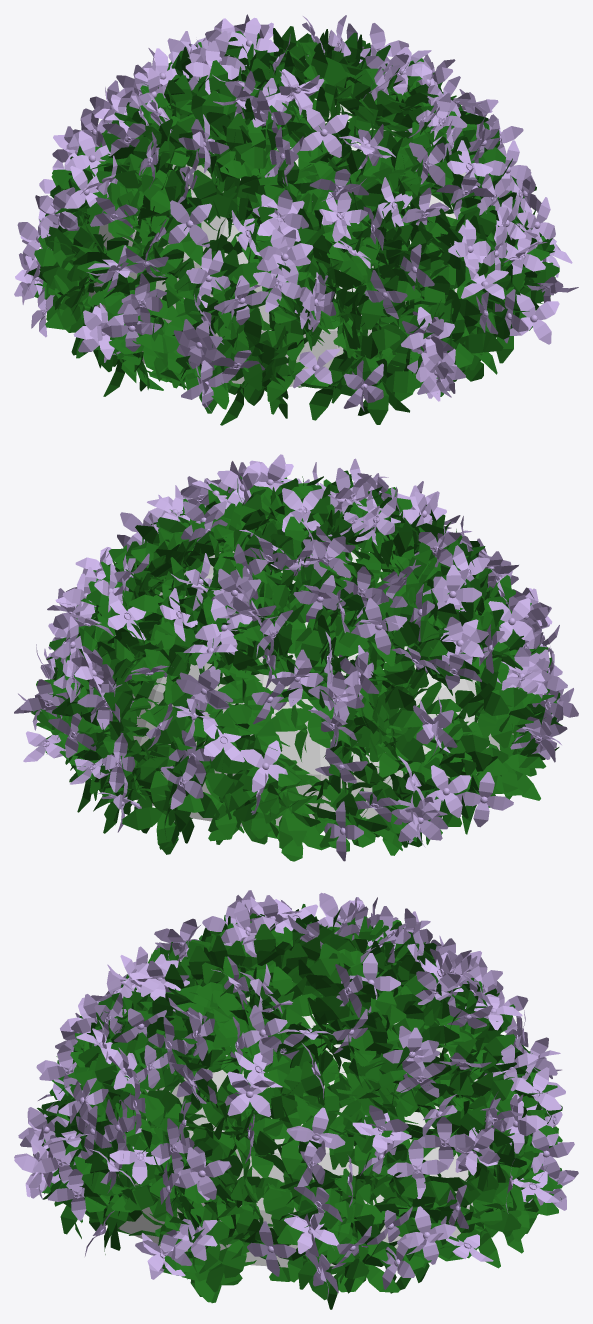
File: Bush_Flower.fbx
3 views of the same model, one above another, from view 1: azimuth 30°, elevation 25°; view 2: azimuth 150°, elevation 25°; view 3: azimuth 270°, elevation 25° (orthographic).
Visible parts, largest first — view 1: bush_Flower; view 2: bush_Flower; view 3: bush_Flower.
Boxes of the visible parts, left/top/right/bottom form: bush_Flower: left=14, top=14, right=578, bottom=425; bush_Flower: left=14, top=454, right=578, bottom=861; bush_Flower: left=14, top=890, right=578, bottom=1309.
Size of the model in its own units: 255 by 145 by 253.
